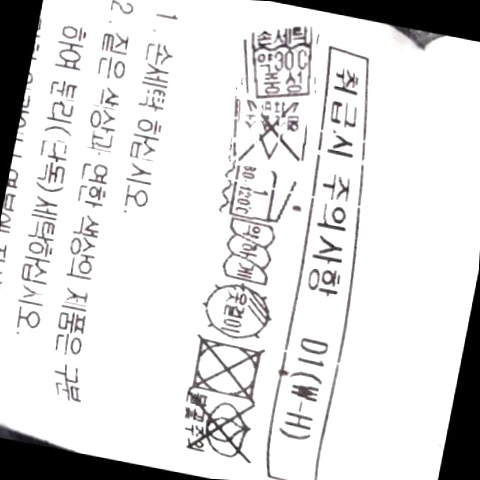DN_tumble_dry: (182, 333, 269, 402)
hand_wash: (240, 25, 321, 99)
iron_low: (224, 162, 294, 225)
line_dry_in_shade: (197, 281, 279, 341)
wring: (219, 218, 277, 287)
